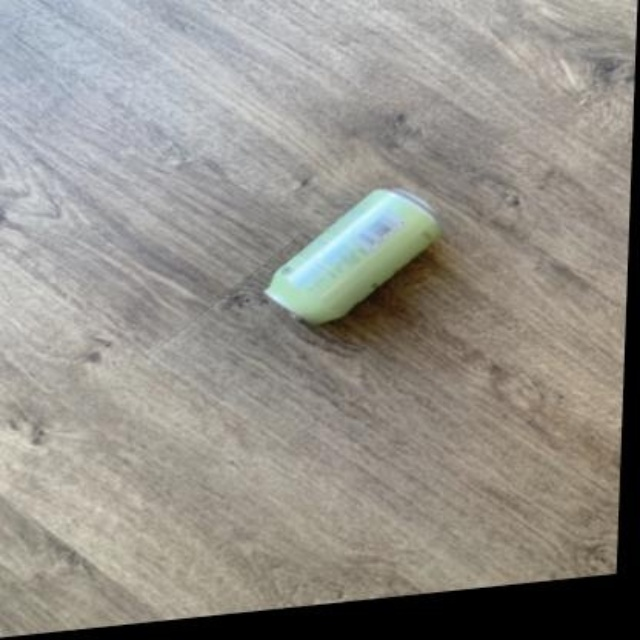trash: (266, 189, 440, 323)
